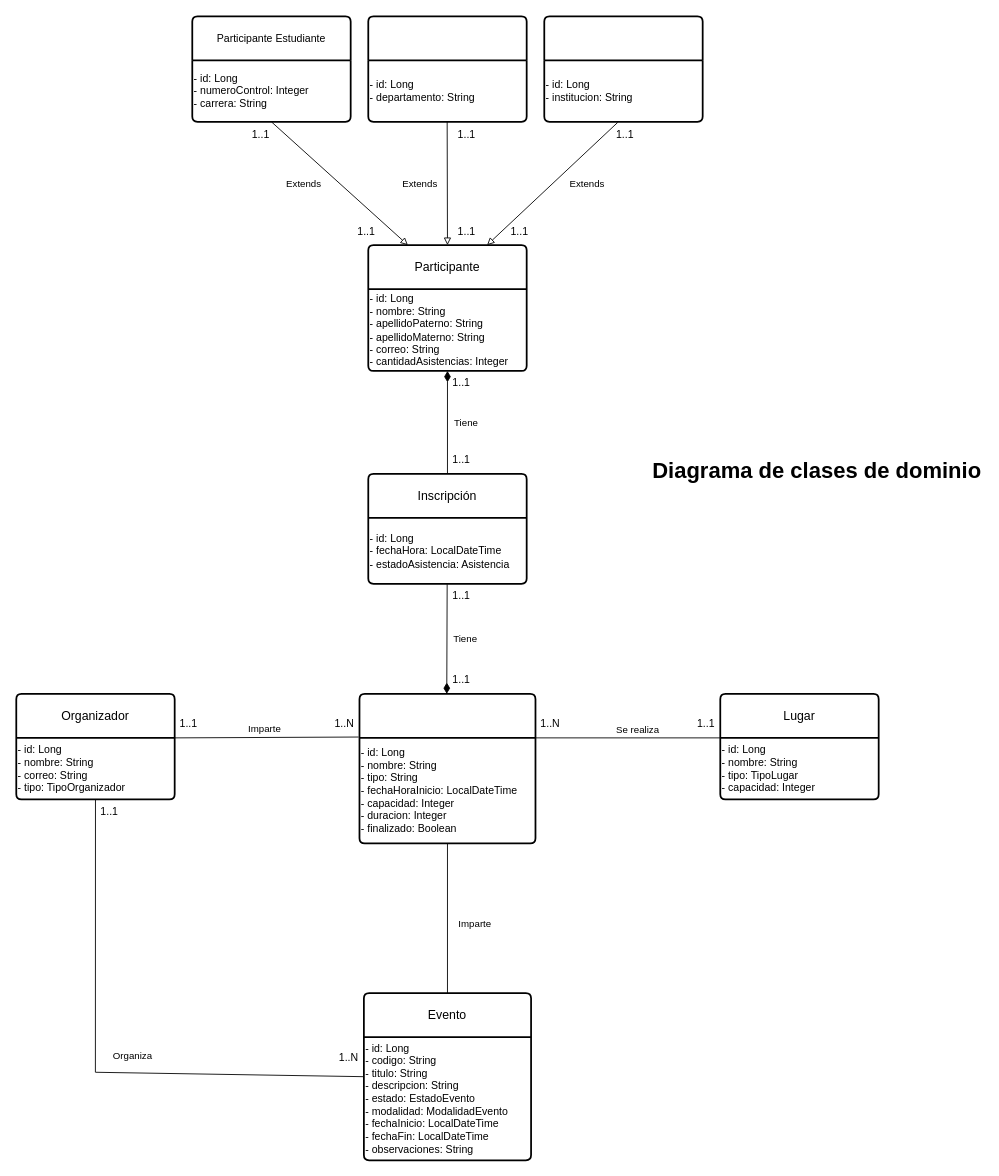
Image size: 999x1176. Some labels were removed from this diagram. The box of each missing label's shape, as (x1, y1, x2, y2) in pixels:
Actividad: (358, 693, 536, 844)
Participante Docente: (367, 15, 527, 122)
Participante Externo: (543, 15, 703, 122)
